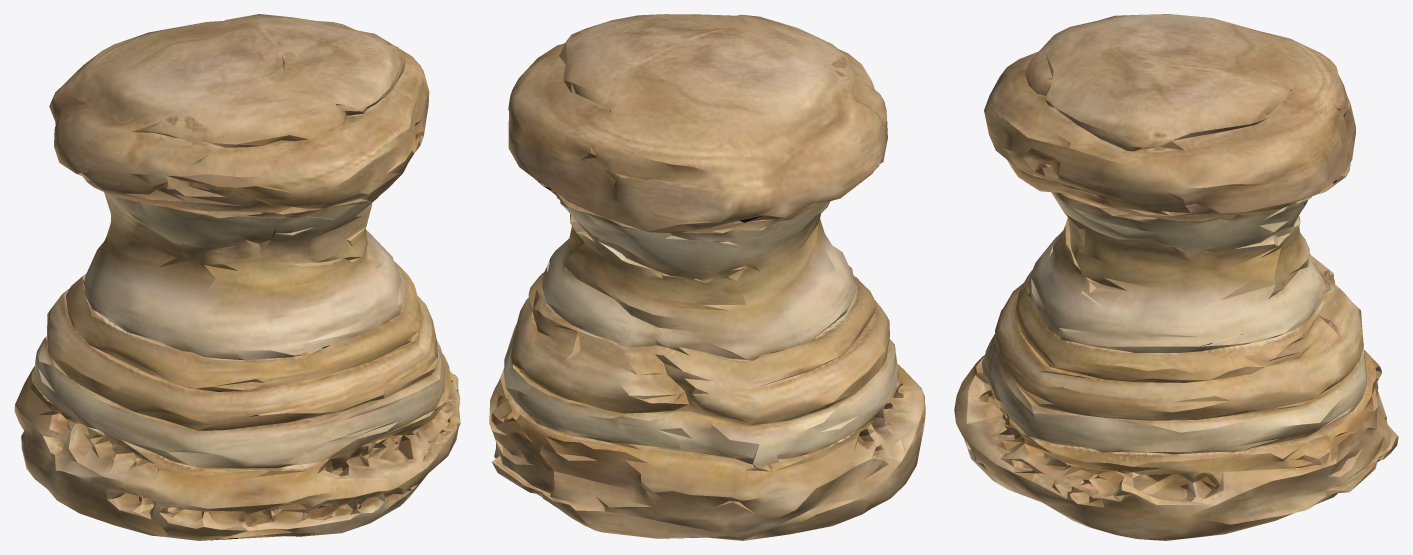
Rendered from isle_boulder_c.glb.
3 views of the same model, side by side, from view 1: azimuth 30°, elevation 25°; view 2: azimuth 150°, elevation 25°; view 3: azimuth 270°, elevation 25° (orthographic).
Visible parts, largest first — view 1: isle_boulder_c; view 2: isle_boulder_c; view 3: isle_boulder_c.
Boxes of the visible parts, x1,y1,x2,y2 form: isle_boulder_c: (14, 14, 460, 540); isle_boulder_c: (489, 14, 925, 540); isle_boulder_c: (954, 14, 1398, 540).
Bounding box in the file's own units: 1 × 1 × 1.
1 material, 1 textured.
